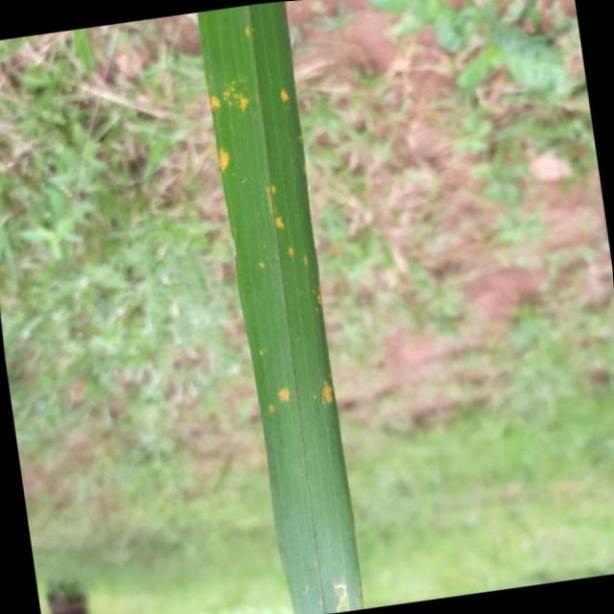Kalium: (193, 1, 369, 614)
